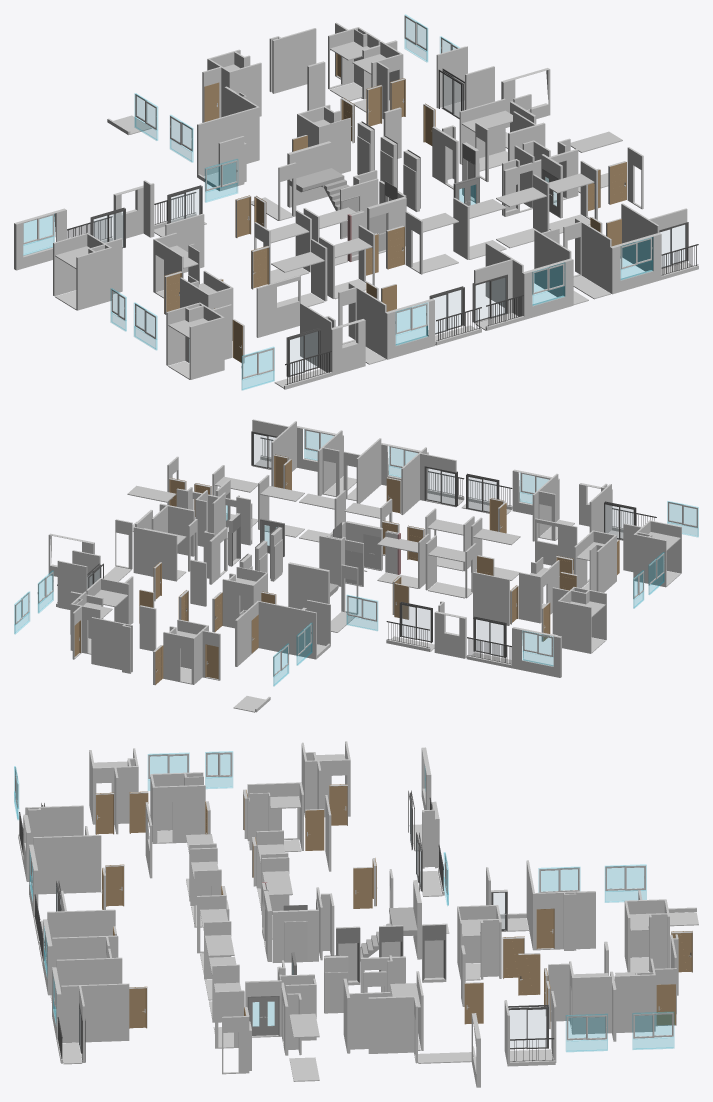
The picture shows the model from 3 angles, top to bottom: view 1: azimuth 30°, elevation 25°; view 2: azimuth 150°, elevation 25°; view 3: azimuth 270°, elevation 25°; orthographic projection. The views are drawn at different scales.
Size of the model in its own units: 34.27 by 3.2 by 34.07.
